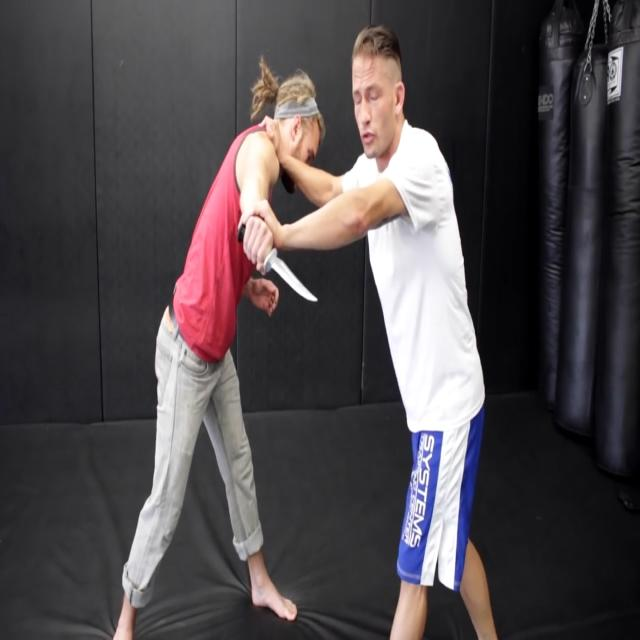knife: (270, 230, 322, 312)
